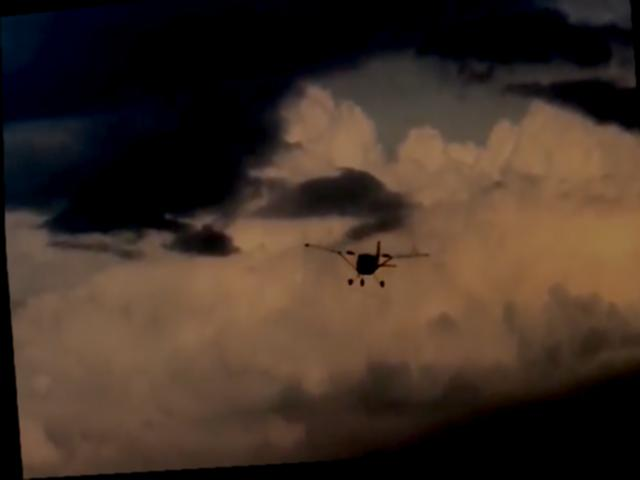plane: (304, 235, 420, 297)
